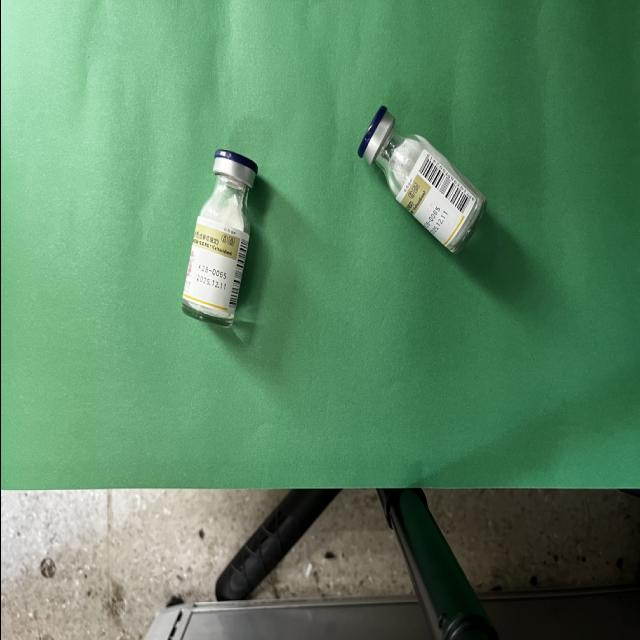Vials: (357, 107, 484, 253), (181, 151, 256, 327)
